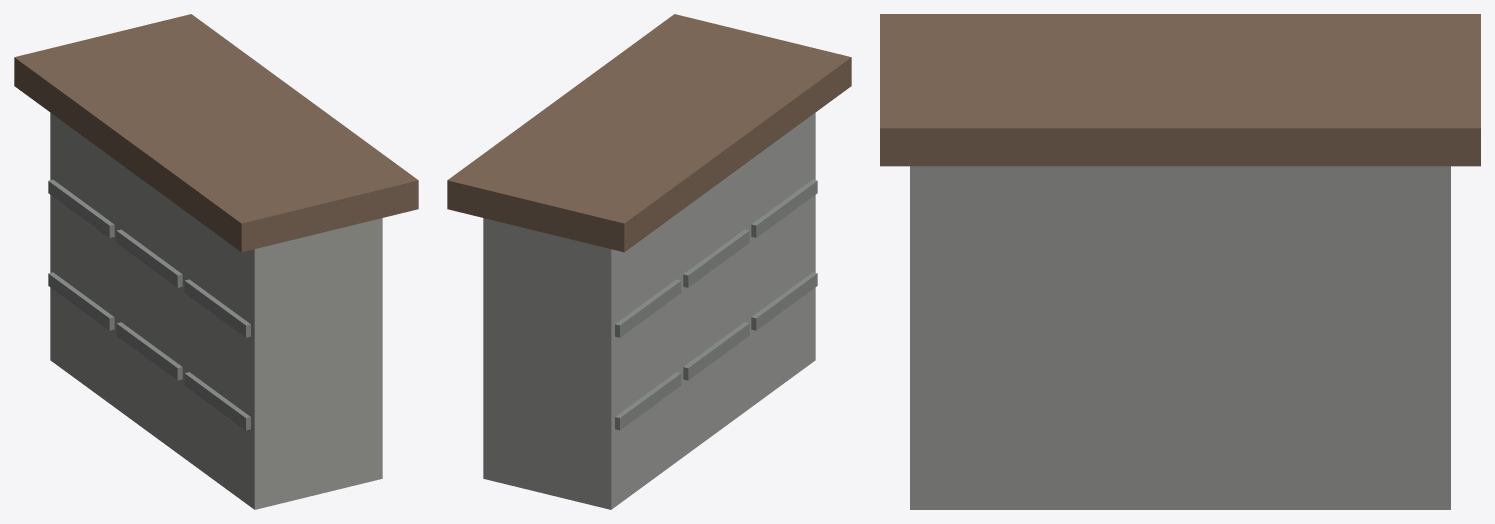
Rendered from Bridge_Rustic_Pier.fbx.
The picture shows the model from 3 angles, left to right: view 1: azimuth 30°, elevation 25°; view 2: azimuth 150°, elevation 25°; view 3: azimuth 270°, elevation 25°; orthographic projection. The views are drawn at different scales.
Parts seen in each view (by area): view 1: Bridge_Rustic_Pier; view 2: Bridge_Rustic_Pier; view 3: Bridge_Rustic_Pier.
Part boxes in pixels (<box>): Bridge_Rustic_Pier: <box>14,14,418,509</box>; Bridge_Rustic_Pier: <box>447,14,851,509</box>; Bridge_Rustic_Pier: <box>880,14,1480,509</box>.
Bounding box in the file's own units: 90 × 146 × 200.
